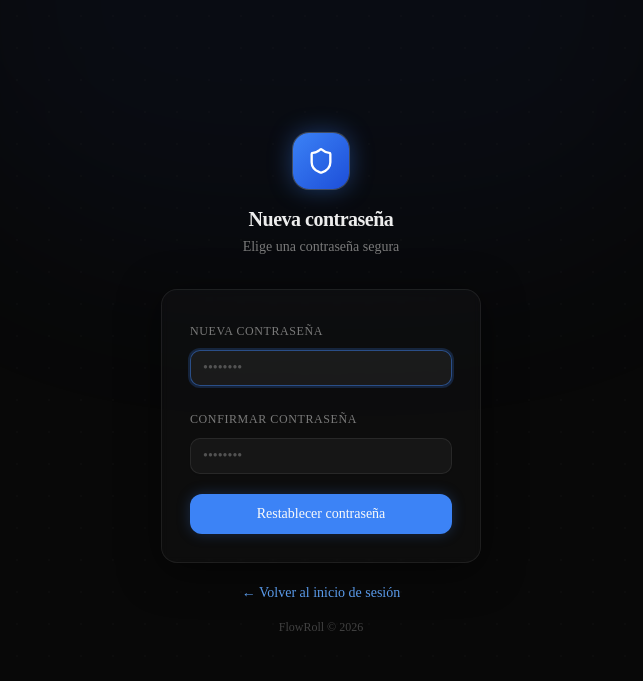
PasswordResetConfirmPage › shows API error when token is expired
The image size is (643, 681).
Type "newpassword123" into the password field labelled "Nueva contraseña". click: (321, 368)
box: [190,350,452,386]
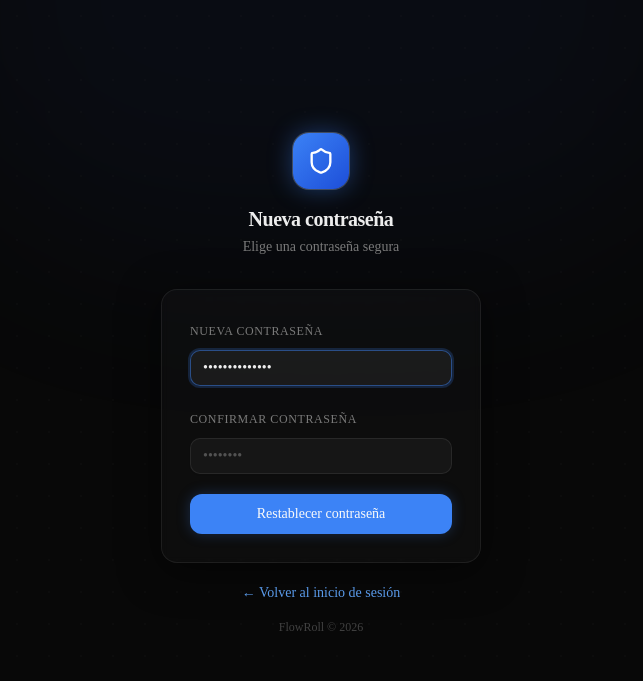
Type "newpassword123" into the password field labelled "Confirmar contraseña". click: (321, 456)
box: [190,438,452,474]
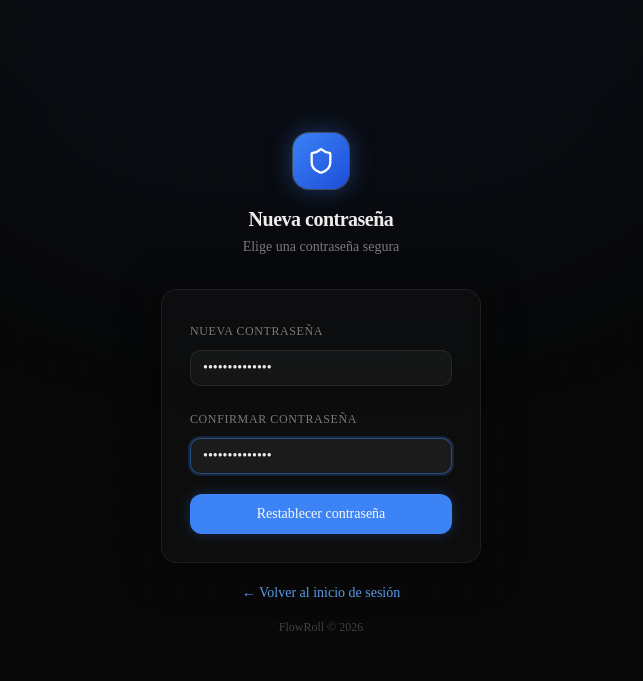
Click the button "Restablecer contraseña". click: (321, 514)
box: [190,494,452,534]
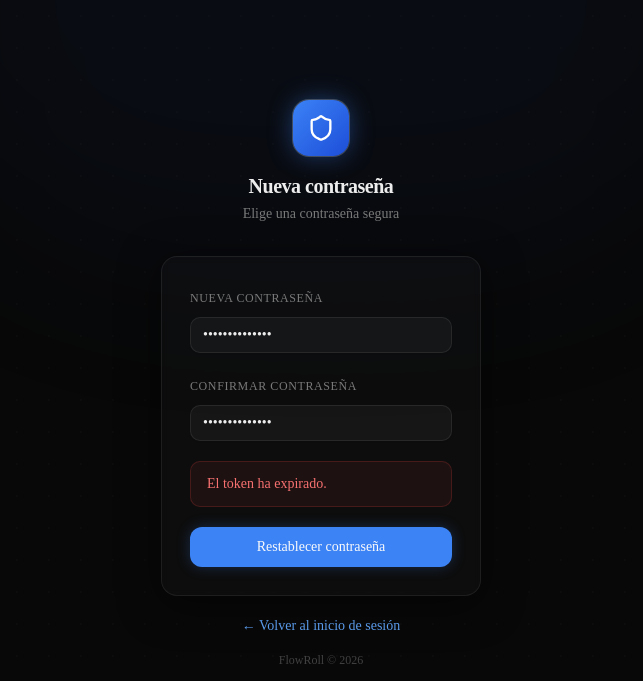
expect the text "El token ha expirado." is shown: met, box [207,476,327,491]
